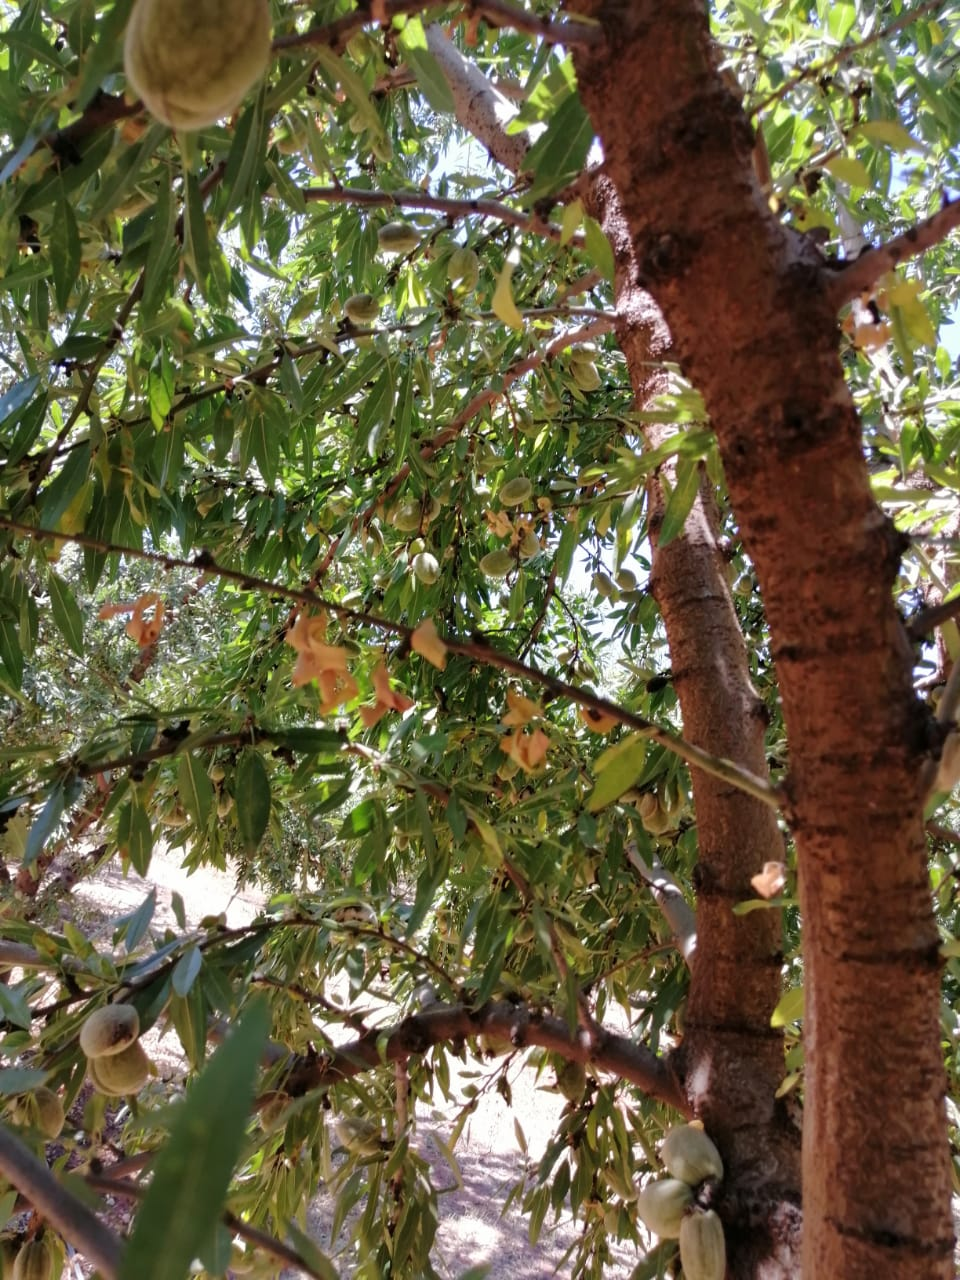chancre fusicocum: (1, 517, 732, 777)
